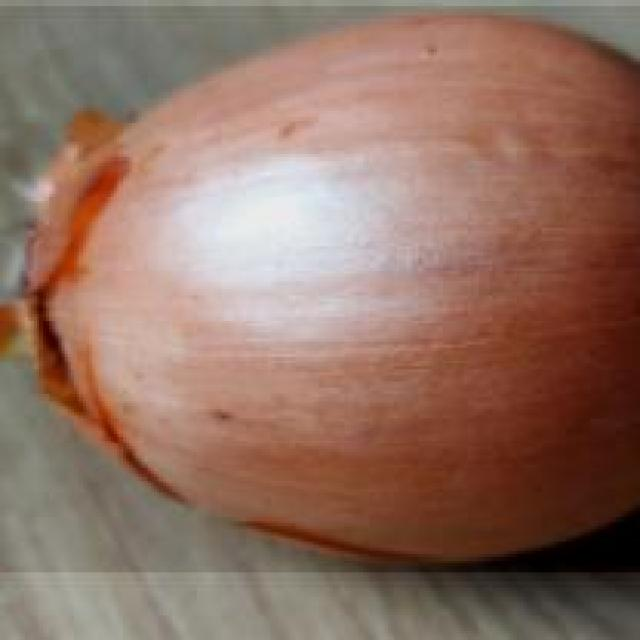onion: (0, 7, 640, 576)
